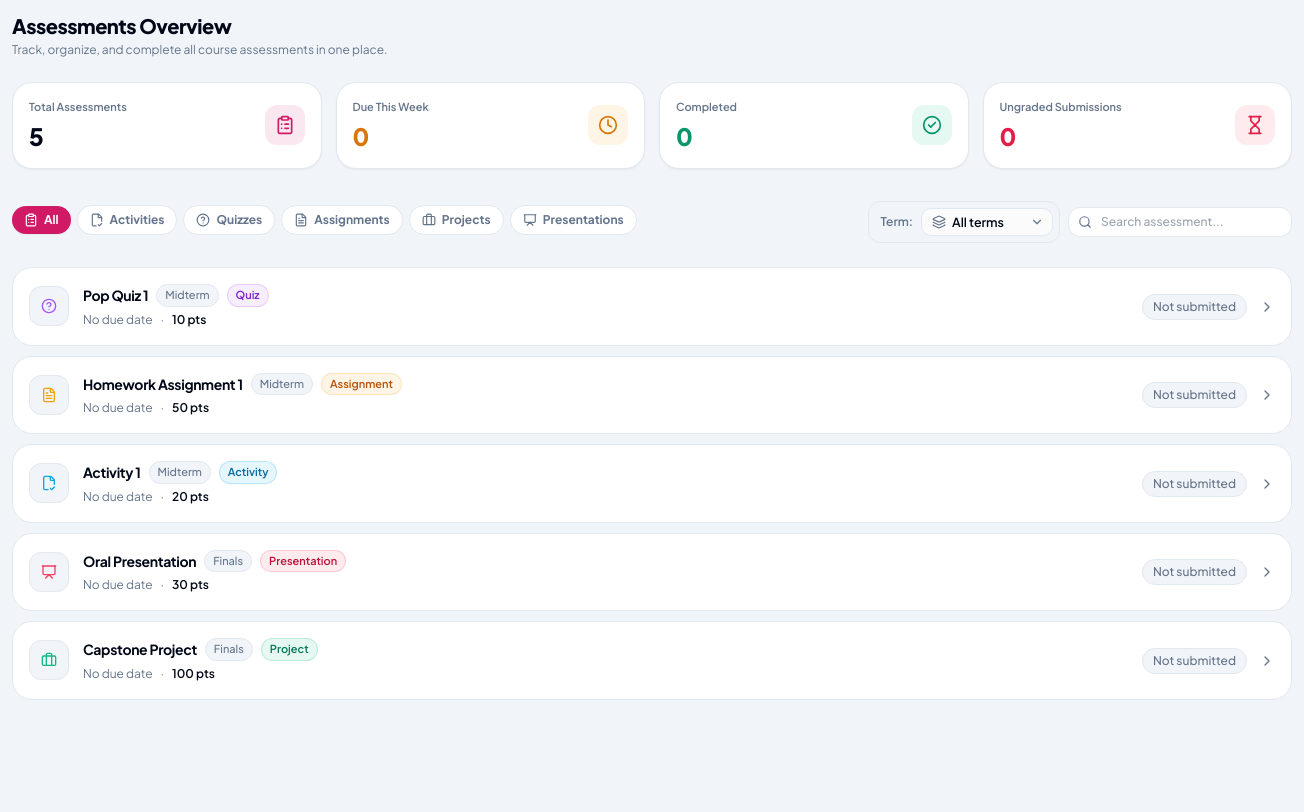
AssessmentsOverviewView › renders metric cards and filters assessments by category
The width and height of the screenshot is (1304, 812).
Check: the heading "Assessments Overview" is shown, box [12,13,231,38]
Check: the text "Total Assessments" is shown, box [29,99,127,116]
// Filter by Assignments pill
Click the button "Assignments" at (342, 220), box [281,205,403,235]
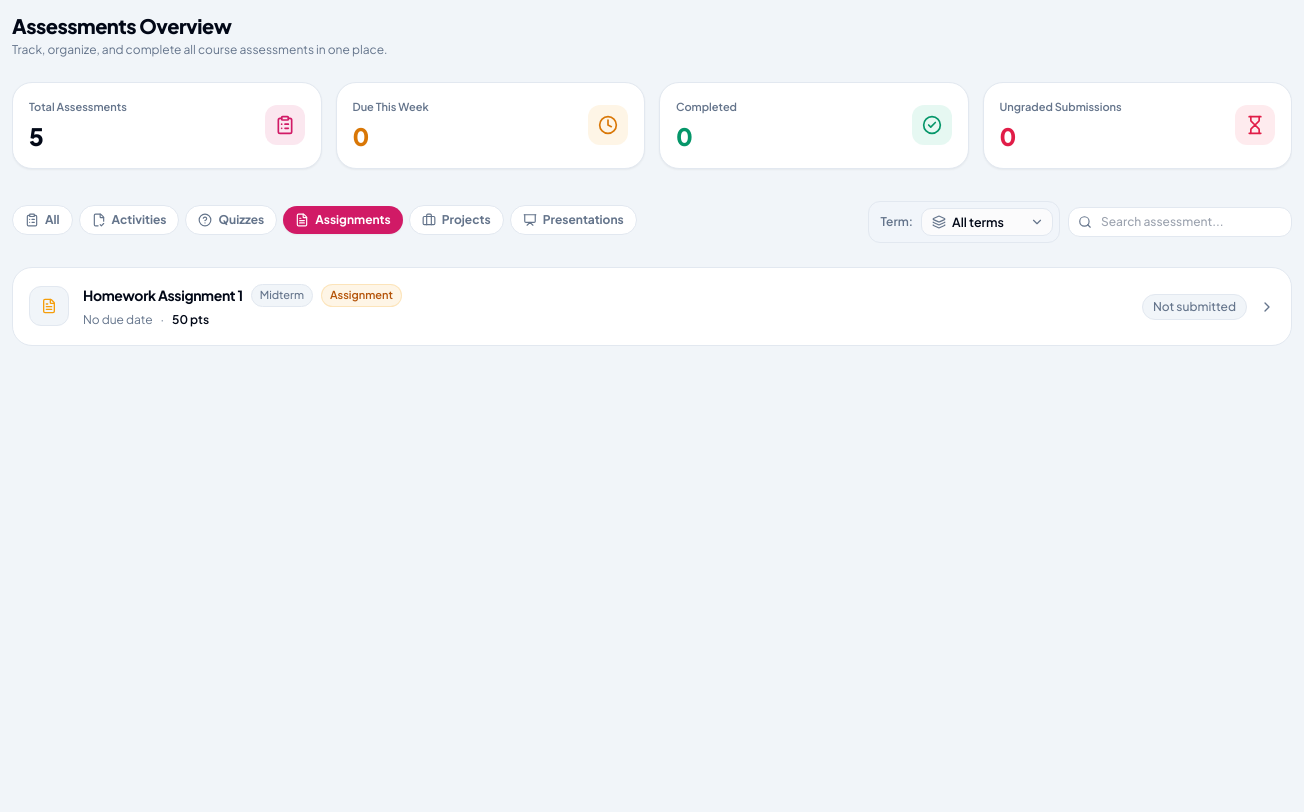
Check: the heading "Homework Assignment 1" is shown, box [83,285,243,306]
Check: the heading "Pop Quiz 1" is gone
